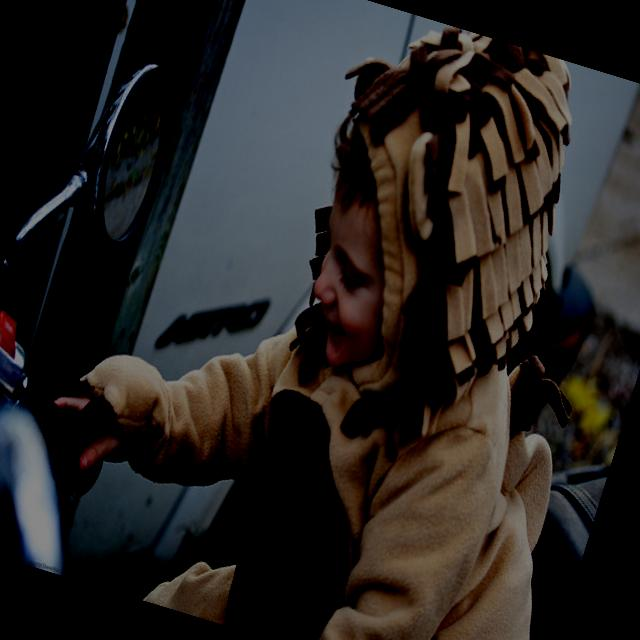Vehicle: (0, 0, 640, 640), (0, 26, 640, 640)
